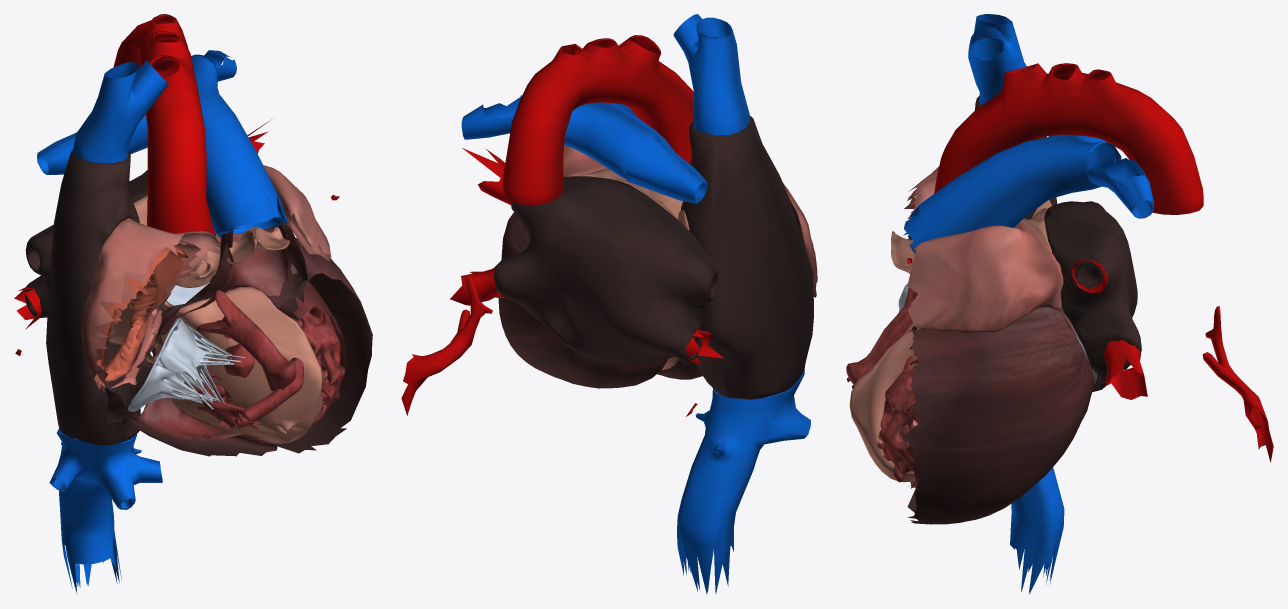
File: heart-inside.glb
3 views of the same model, side by side, from view 1: azimuth 30°, elevation 25°; view 2: azimuth 150°, elevation 25°; view 3: azimuth 270°, elevation 25° (orthographic). The views are drawn at different scales.
Parts seen in each view (by area): view 1: Right_atrium_to_superior_vena_cava, Aortic_arch, Interventricular_septum, Inferior_vena_cava, Right_ventricle, Pulmonary_trunk, Right_auricle, Left_ventricle, Superior_vena_cava, Pectinate_muscle_of_right_auricle, Septal_limb_of_supraventricular_crest, Anterior_cusp_and_chordae_tendineae_of_tricuspid_valve (+17 smaller); view 2: Posterior_wall_of_left_atrium, Right_atrium_to_superior_vena_cava, Aortic_arch, Inferior_vena_cava, Left_ventricle, Superior_vena_cava, Pulmonary_trunk, Left_inferior_pulmonary_vein, Right_pulmonary_artery, Left_pulmonary_artery, Left_auricle, Left_superior_pulmonary_vein (+3 smaller); view 3: Left_ventricle, Aortic_arch, Left_auricle, Pulmonary_trunk, Posterior_wall_of_left_atrium, Inferior_vena_cava, Left_inferior_pulmonary_vein, Interventricular_septum, Superior_vena_cava, Trabeculae_carneae_of_left_ventricle, Left_pulmonary_artery, Septal_limb_of_supraventricular_crest (+2 smaller).
Part boxes in pixels (<box>): Right_atrium_to_superior_vena_cava: <box>46,150,164,445</box>; Aortic_arch: <box>113,14,215,236</box>; Interventricular_septum: <box>143,287,322,443</box>; Inferior_vena_cava: <box>49,428,162,594</box>; Right_ventricle: <box>127,222,307,456</box>; Pulmonary_trunk: <box>128,54,287,237</box>; Right_auricle: <box>81,218,220,393</box>; Left_ventricle: <box>151,237,372,453</box>; Superior_vena_cava: <box>72,60,168,163</box>; Pectinate_muscle_of_right_auricle: <box>97,246,188,381</box>; Septal_limb_of_supraventricular_crest: <box>196,290,296,391</box>; Anterior_cusp_and_chordae_tendineae_of_tricuspid_valve: <box>157,317,245,409</box>; Posterior_wall_of_left_atrium: <box>493,176,717,364</box>; Right_atrium_to_superior_vena_cava: <box>681,116,813,399</box>; Aortic_arch: <box>502,35,693,205</box>; Inferior_vena_cava: <box>677,367,810,594</box>; Left_ventricle: <box>498,212,668,388</box>; Superior_vena_cava: <box>673,14,750,135</box>; Pulmonary_trunk: <box>564,102,667,180</box>; Left_inferior_pulmonary_vein: <box>401,267,504,415</box>; Right_pulmonary_artery: <box>625,135,707,203</box>; Left_pulmonary_artery: <box>461,95,522,139</box>; Left_auricle: <box>563,145,606,176</box>; Left_superior_pulmonary_vein: <box>462,148,511,204</box>; Left_ventricle: <box>904,307,1094,524</box>; Aortic_arch: <box>934,63,1203,214</box>; Left_auricle: <box>907,222,1063,333</box>; Pulmonary_trunk: <box>903,134,1121,254</box>; Posterior_wall_of_left_atrium: <box>1044,201,1141,391</box>; Inferior_vena_cava: <box>1010,467,1064,594</box>; Left_inferior_pulmonary_vein: <box>1103,306,1273,462</box>; Interventricular_septum: <box>849,323,917,482</box>; Superior_vena_cava: <box>968,14,1026,105</box>; Trabeculae_carneae_of_left_ventricle: <box>877,355,918,486</box>; Left_pulmonary_artery: <box>1086,156,1154,218</box>; Septal_limb_of_supraventricular_crest: <box>846,287,914,385</box>.
Bounding box in the file's own units: 0.1189 × 0.2052 × 0.1376.
Materials: 44 (44 with a texture image).
